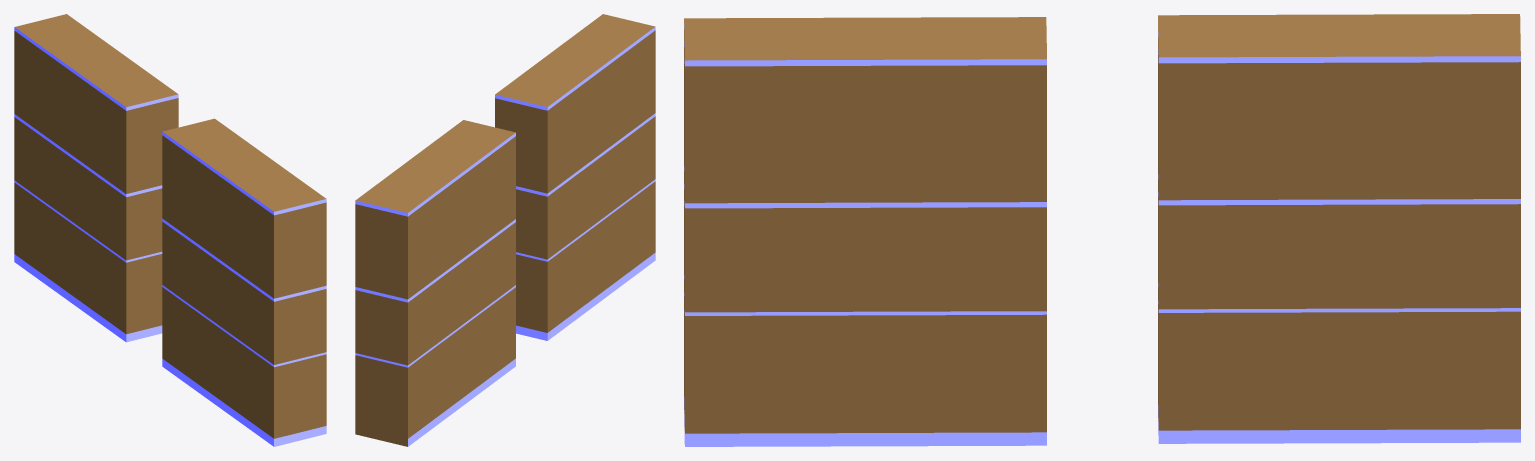
Rendered from startpoint.glb.
3 renders of one model, left to right at view 1: azimuth 30°, elevation 25°; view 2: azimuth 150°, elevation 25°; view 3: azimuth 270°, elevation 25°, orthographic. The views are drawn at different scales.
Parts seen in each view (by area): view 1: wall_1_.001, wall_1_.004; view 2: wall_1_.004, wall_1_.001; view 3: wall_1_.001, wall_1_.004.
Boxes of the visible parts, box(x1,y1,x2,y2) form: wall_1_.001: box(162, 118, 326, 446); wall_1_.004: box(14, 14, 178, 342); wall_1_.004: box(355, 120, 515, 446); wall_1_.001: box(495, 14, 655, 340); wall_1_.001: box(684, 17, 1046, 446); wall_1_.004: box(1158, 14, 1520, 443).
Size of what is drawn, in the model's own units: 4.13 by 16 by 31.4.
